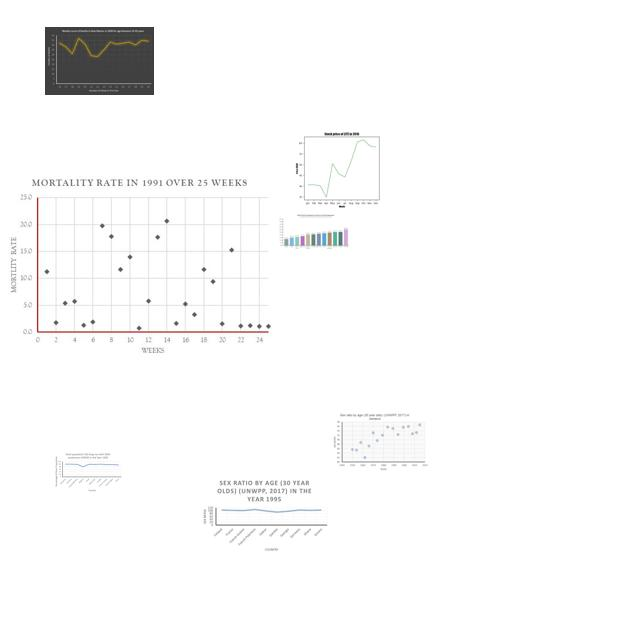Graph: (8, 175, 276, 357), (200, 478, 329, 553), (286, 127, 395, 209), (45, 27, 154, 95), (330, 412, 429, 471), (53, 452, 123, 492), (279, 214, 349, 249)
